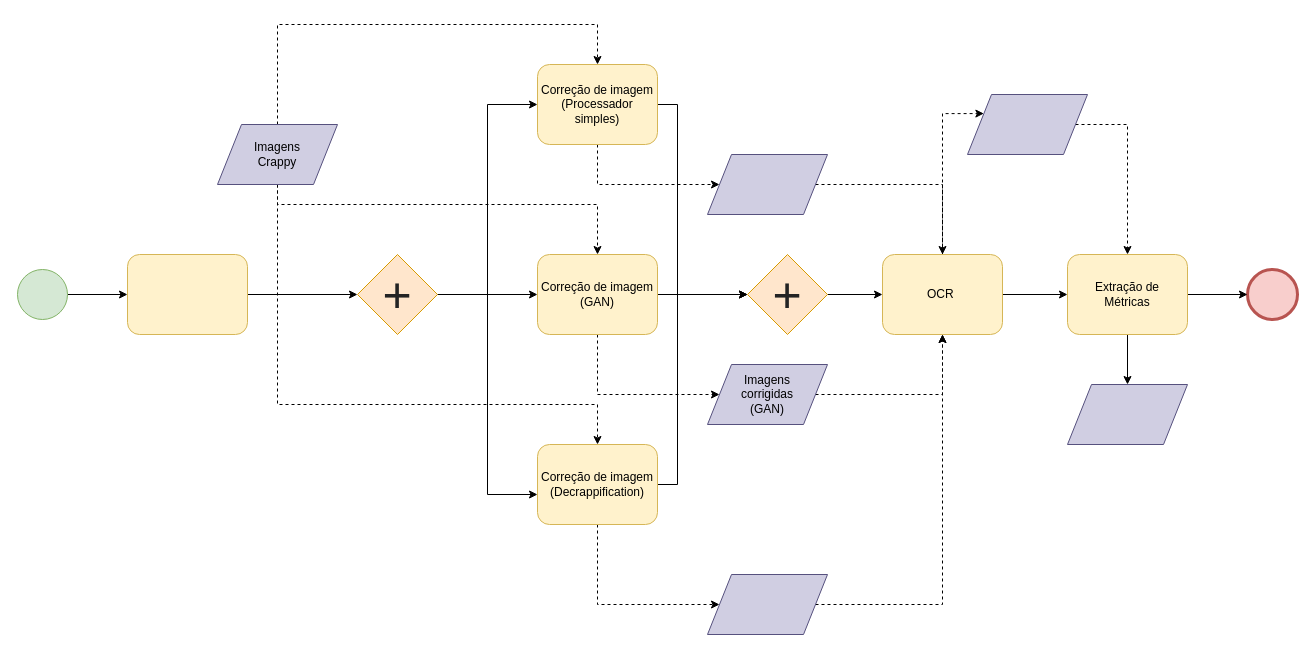
This 1315x652 diagram has some shape labels left out. The shapes that lost their labels are listed below. From the top down, each one's centre as x and y in pixels, then its label:
point 1027,124: OCR Data
point 767,184: Imagens corrigidas (proc. simples)
point 187,294: Configuração do Ambiente
point 1127,414: Metrics CSV
point 767,604: Imagens corrigidas (decrap.)
